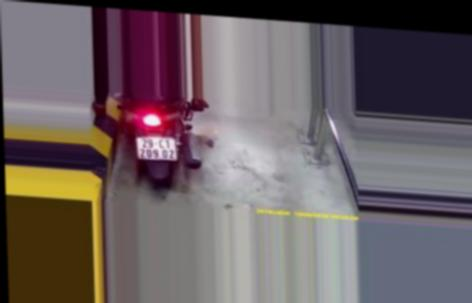License_Plate: (133, 134, 180, 167)
